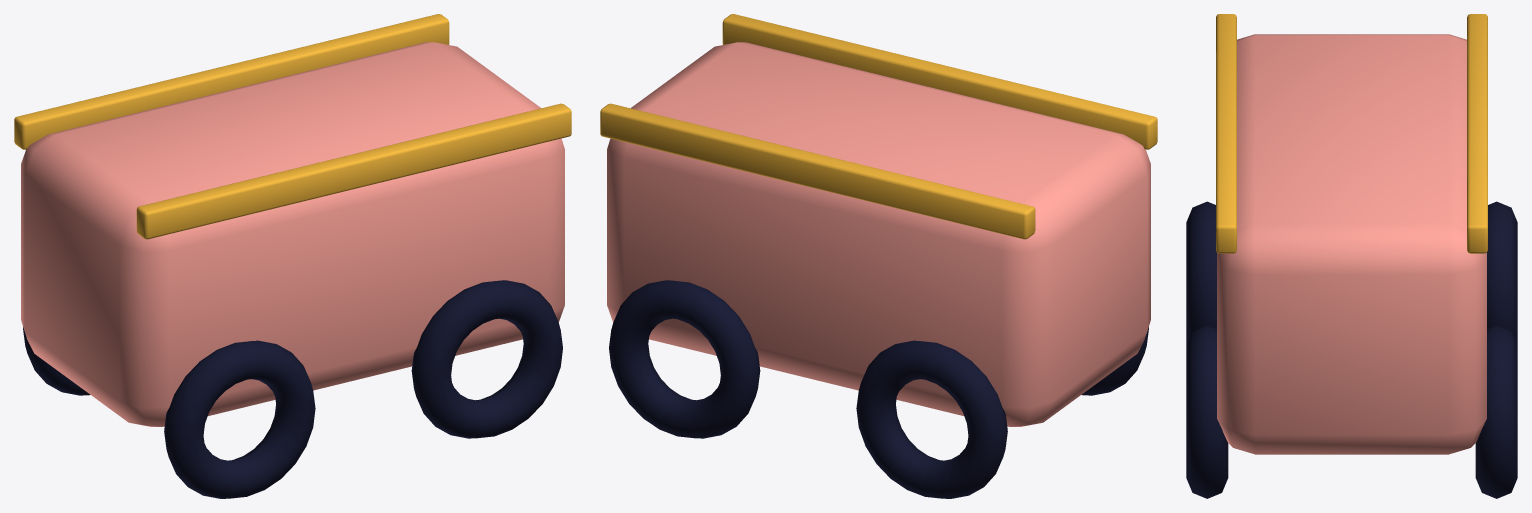
Rendered from r021_sky_lagoon_train_presentation_train_04.glb.
3 renders of one model, left to right at view 1: azimuth 30°, elevation 25°; view 2: azimuth 150°, elevation 25°; view 3: azimuth 270°, elevation 25°, orthographic. The views are drawn at different scales.
Visible parts, largest first — view 1: r021_sky_lagoon_train_presentation_train_04.001; view 2: r021_sky_lagoon_train_presentation_train_04.001; view 3: r021_sky_lagoon_train_presentation_train_04.001.
Boxes of the visible parts, x1,y1,x2,y2 form: r021_sky_lagoon_train_presentation_train_04.001: (14, 14, 571, 498); r021_sky_lagoon_train_presentation_train_04.001: (600, 14, 1157, 498); r021_sky_lagoon_train_presentation_train_04.001: (1186, 14, 1517, 498).
Size of the model in its own units: 3 by 1.96 by 1.9.
